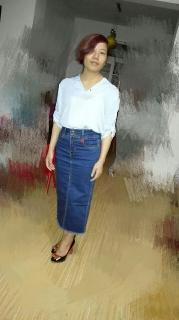long sleeve top: (53, 74, 120, 141)
skirt: (55, 127, 101, 235)
